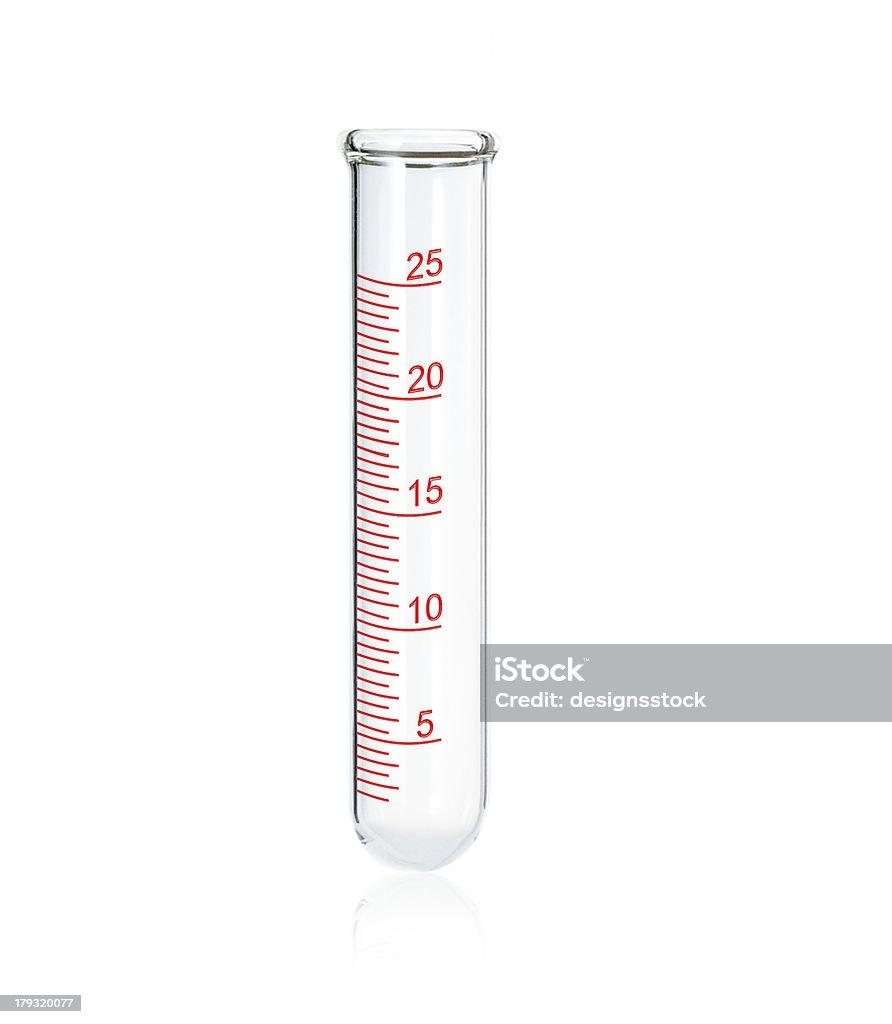Test tube: (320, 112, 501, 864)
